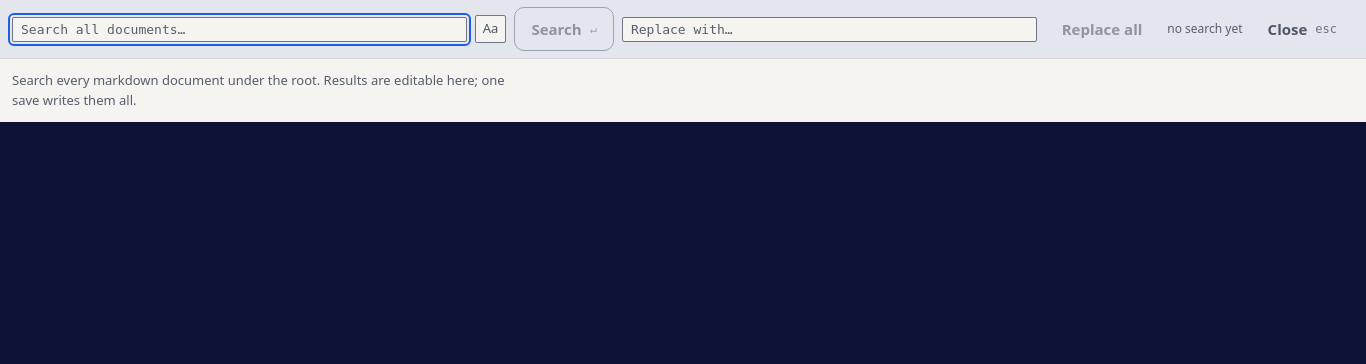
it: MultiBuffer › shows one excerpt per match, with its context
The width and height of the screenshot is (1366, 364).
Type "needle" into the field labelled "Search all documents" at (239, 29), box [12,16,467,42]
Then press Enter
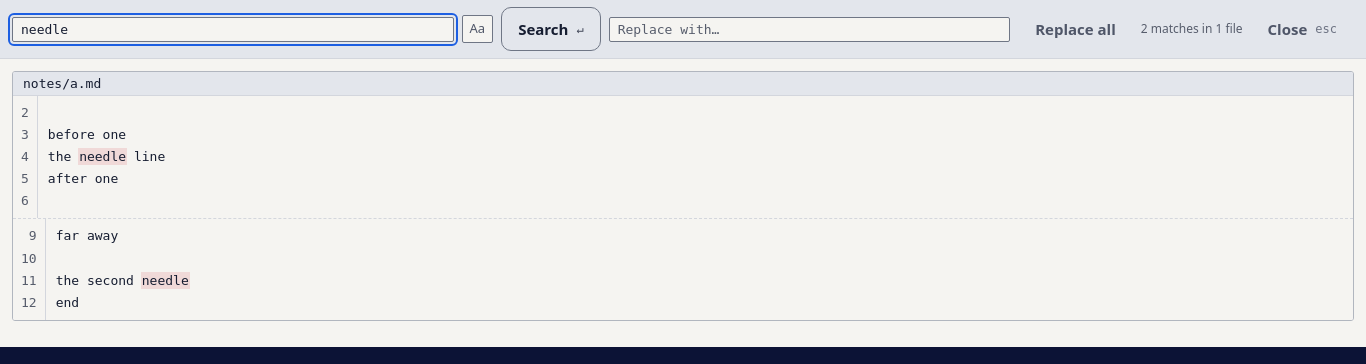
Now the button "notes/a.md" is shown, box [23,76,101,91]
Now the text "2 matches in 1 file" is shown, box [1141,20,1243,38]
